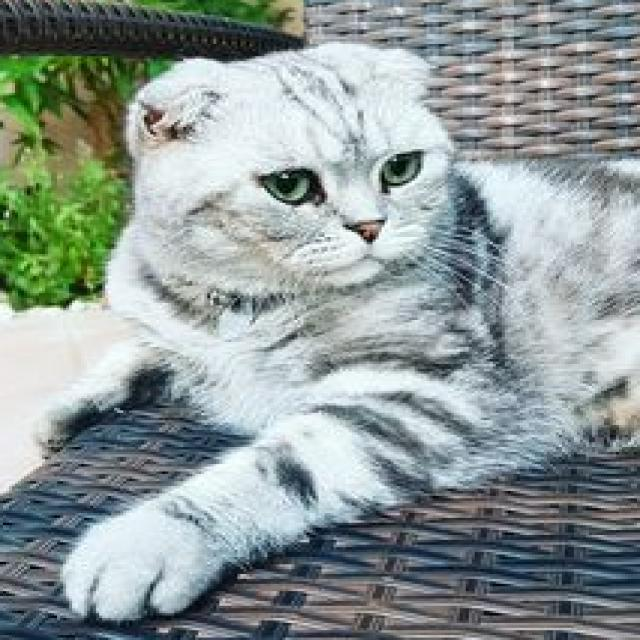Scottish Fold: (21, 32, 640, 625)
